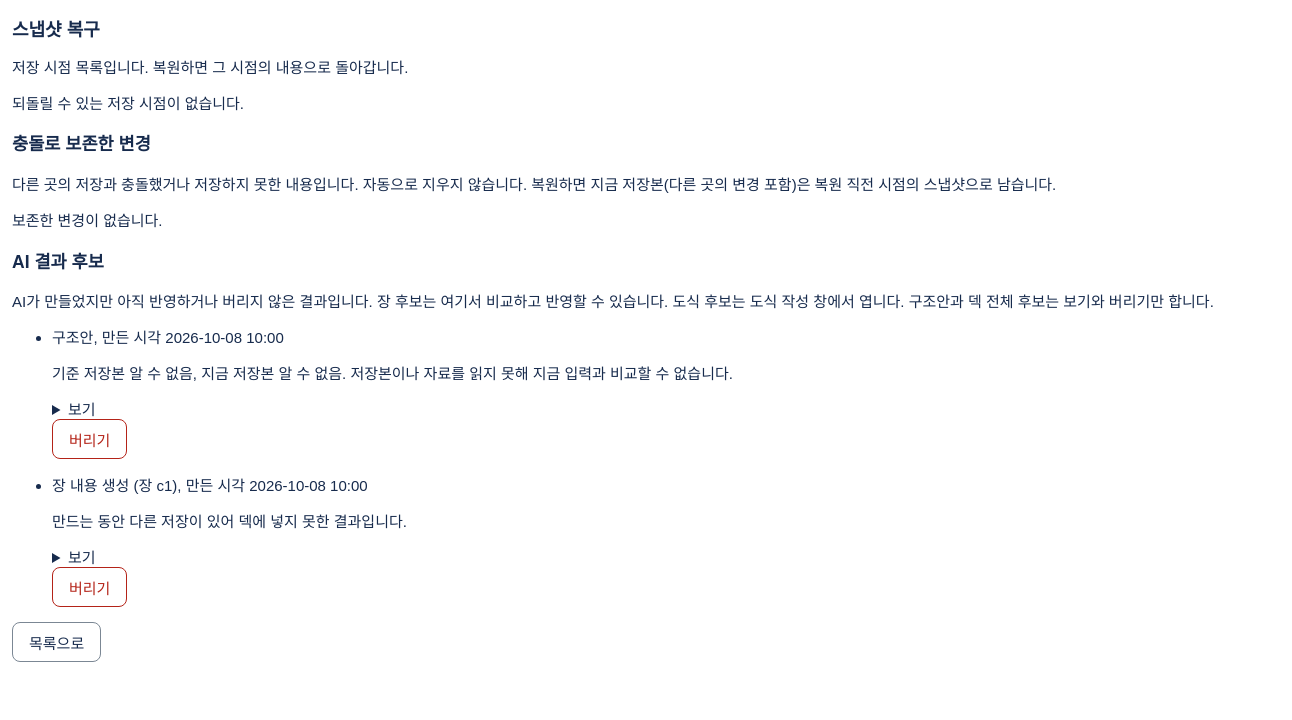
후보를 버리면 처분하고 목록을 다시 읽는다. 묶음의 장 후보는 장 단위로 버린다 (D2b-5c)
This screenshot has width=1292, height=720.
Click the button "버리기" below "장 내용 생성".
click(90, 587)  # box [52,567,127,607]
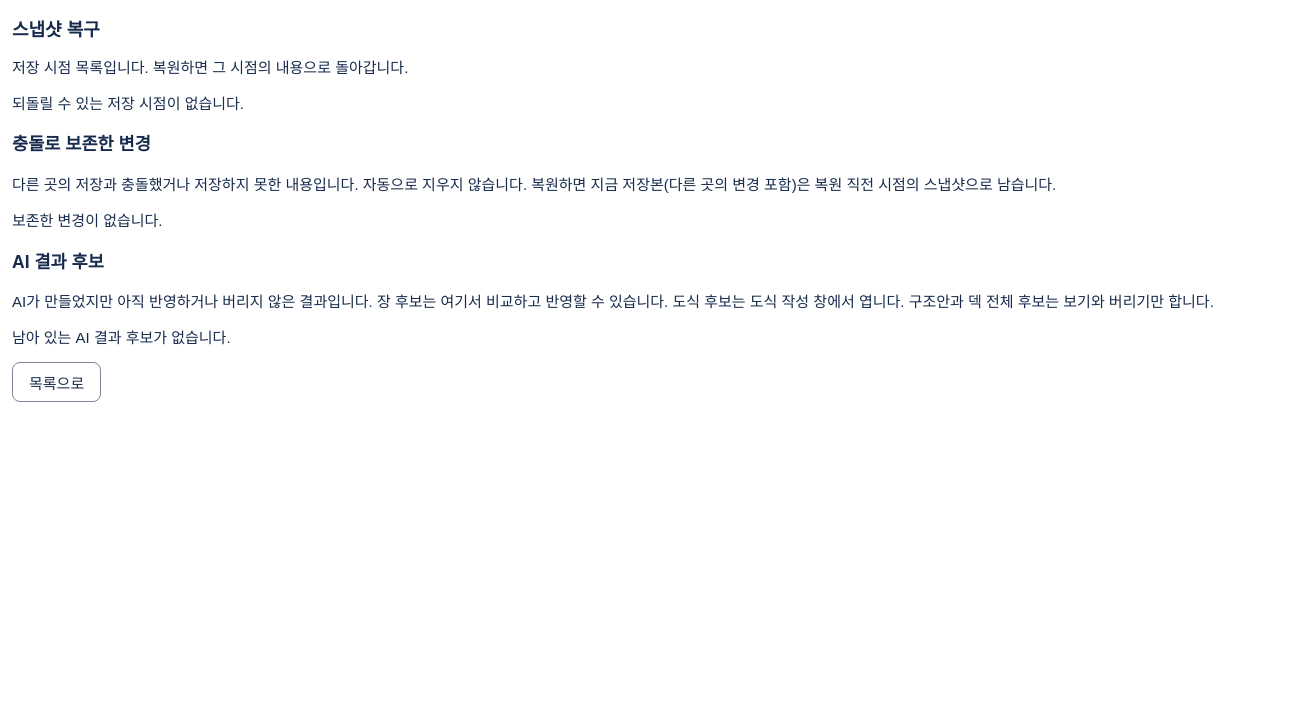
Result: the text "남아 있는 AI 결과 후보가 없습니다." is shown at [12,329,231,346]
